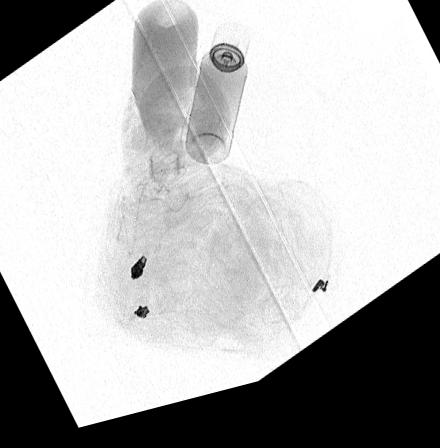Sprayer: (183, 33, 251, 176)
